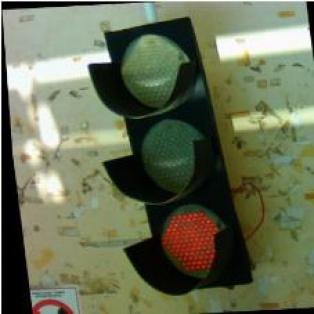Semaforo Rojo: (83, 17, 252, 298)
